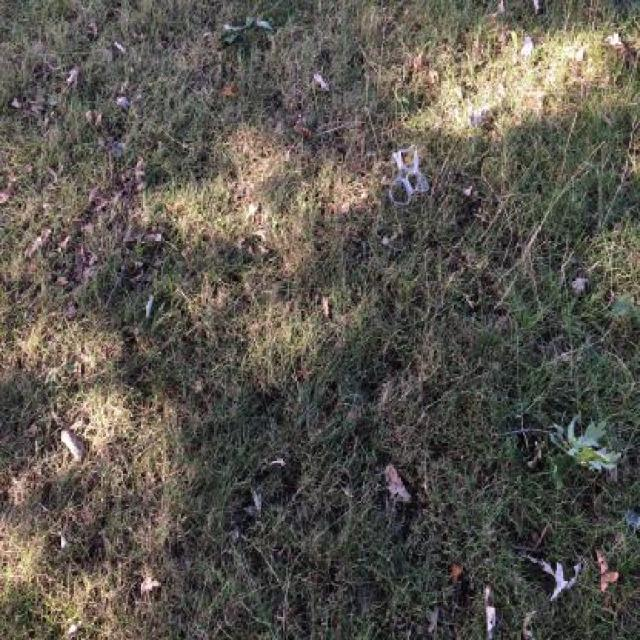plastic: (388, 145, 430, 206)
